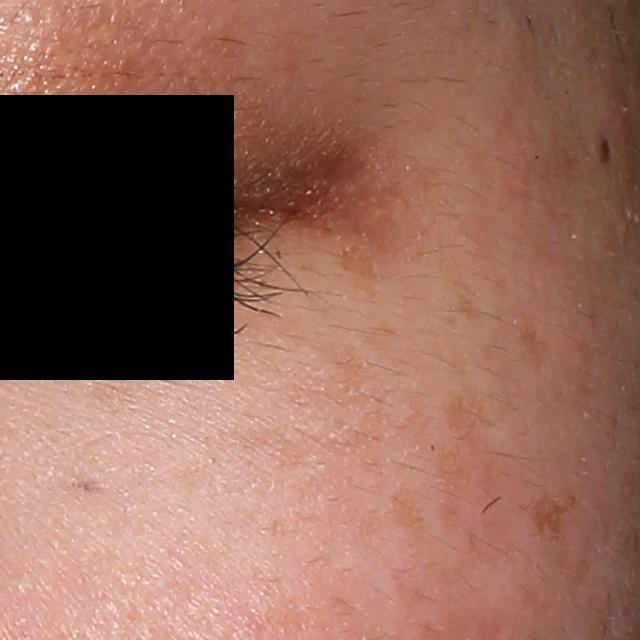melasma: (278, 316, 389, 420), (318, 403, 389, 481), (382, 475, 429, 530), (330, 245, 385, 285), (528, 484, 567, 538), (515, 318, 550, 377)
nevus: (596, 132, 613, 166)
